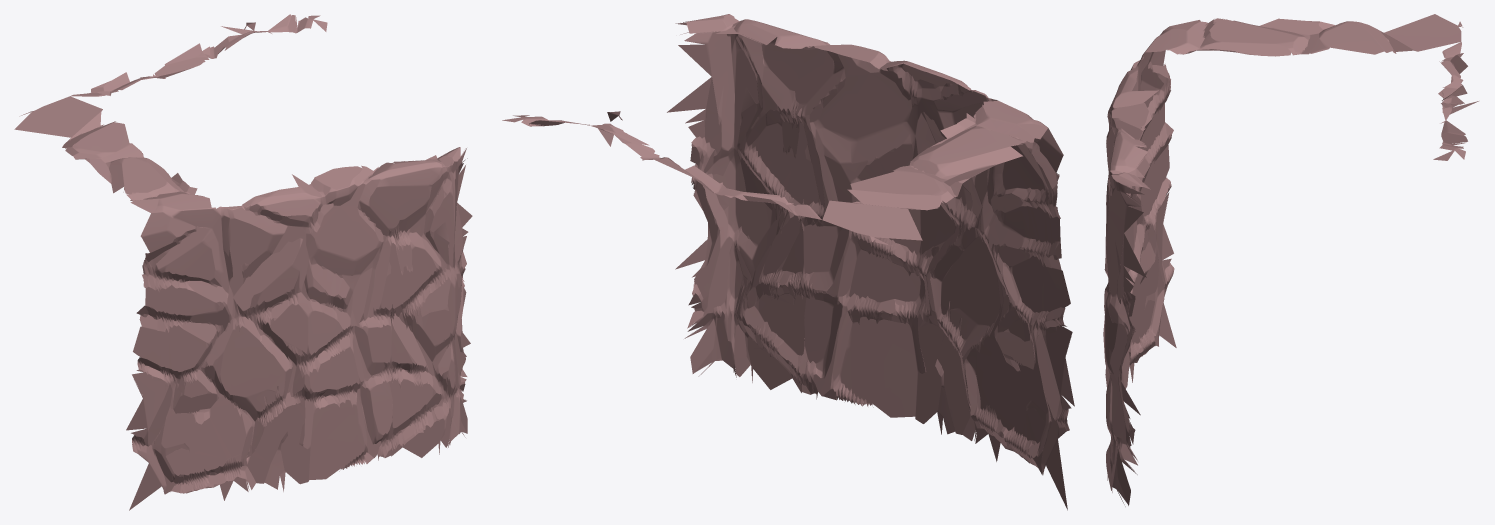
The model's file is cliff_area_2.fbx_Cliff_Area_2_028LODs.fbx.
3 renders of one model, left to right at view 1: azimuth 30°, elevation 25°; view 2: azimuth 150°, elevation 25°; view 3: azimuth 270°, elevation 25°, orthographic. The views are drawn at different scales.
Parts seen in each view (by area): view 1: Cliff Area 2.028_LOD0; view 2: Cliff Area 2.028_LOD0; view 3: Cliff Area 2.028_LOD0.
Part boxes in pixels (x1=…): Cliff Area 2.028_LOD0: x1=14, y1=14, x2=472, y2=510; Cliff Area 2.028_LOD0: x1=502, y1=14, x2=1074, y2=510; Cliff Area 2.028_LOD0: x1=1103, y1=14, x2=1478, y2=506.
Size of what is drawn, in the model's own units: 4451 by 4376 by 3862.
